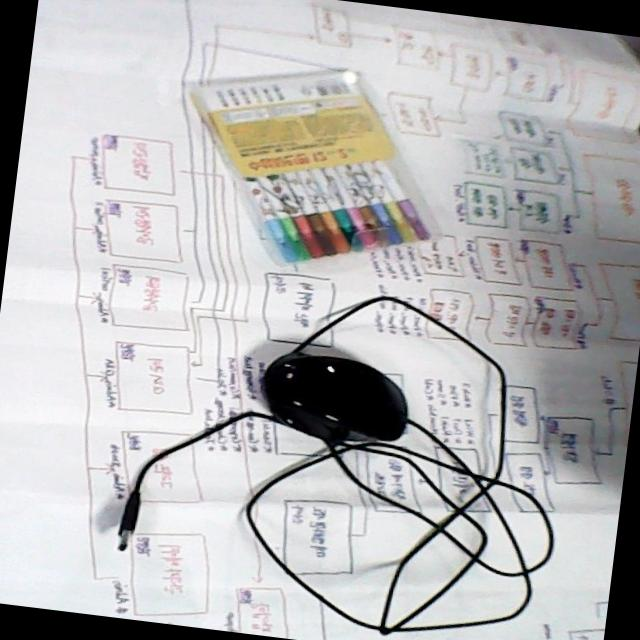mouse: (251, 344, 411, 447)
signpen: (174, 59, 444, 272)
